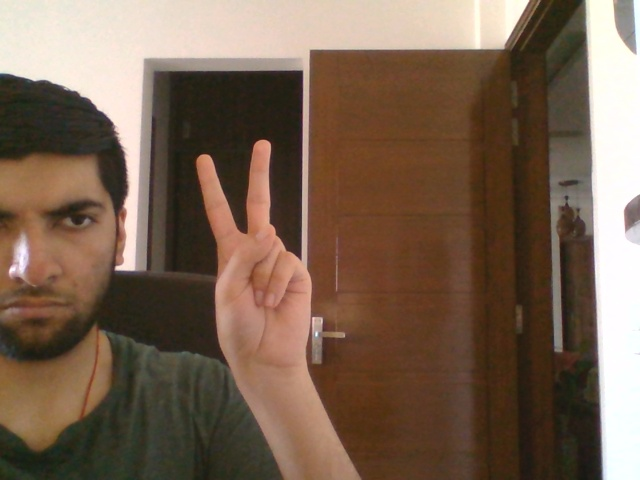LetterK: (195, 140, 313, 374)
